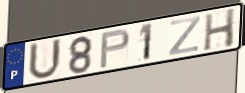1: (138, 21, 154, 63)
8: (67, 33, 94, 75)
H: (202, 6, 237, 53)
P: (98, 27, 132, 70)
U: (26, 37, 63, 82)
Z: (167, 14, 203, 57)
